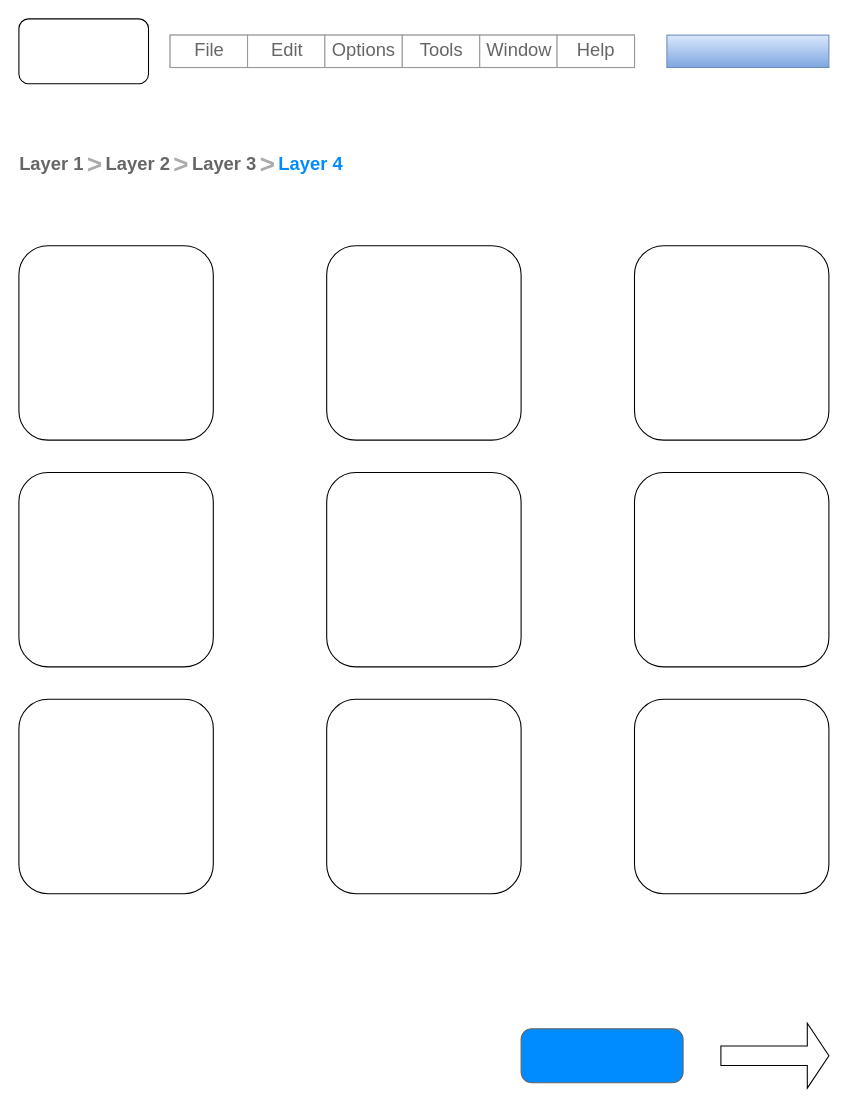
Image size: 848x1107. Some labels were removed from this diagram. The box of each missing label's shape, as (x1, y1, x2, y2) in pixels:
Button Text: (520, 1028, 683, 1083)
Logo: (18, 18, 148, 84)
Search: (666, 34, 829, 68)
